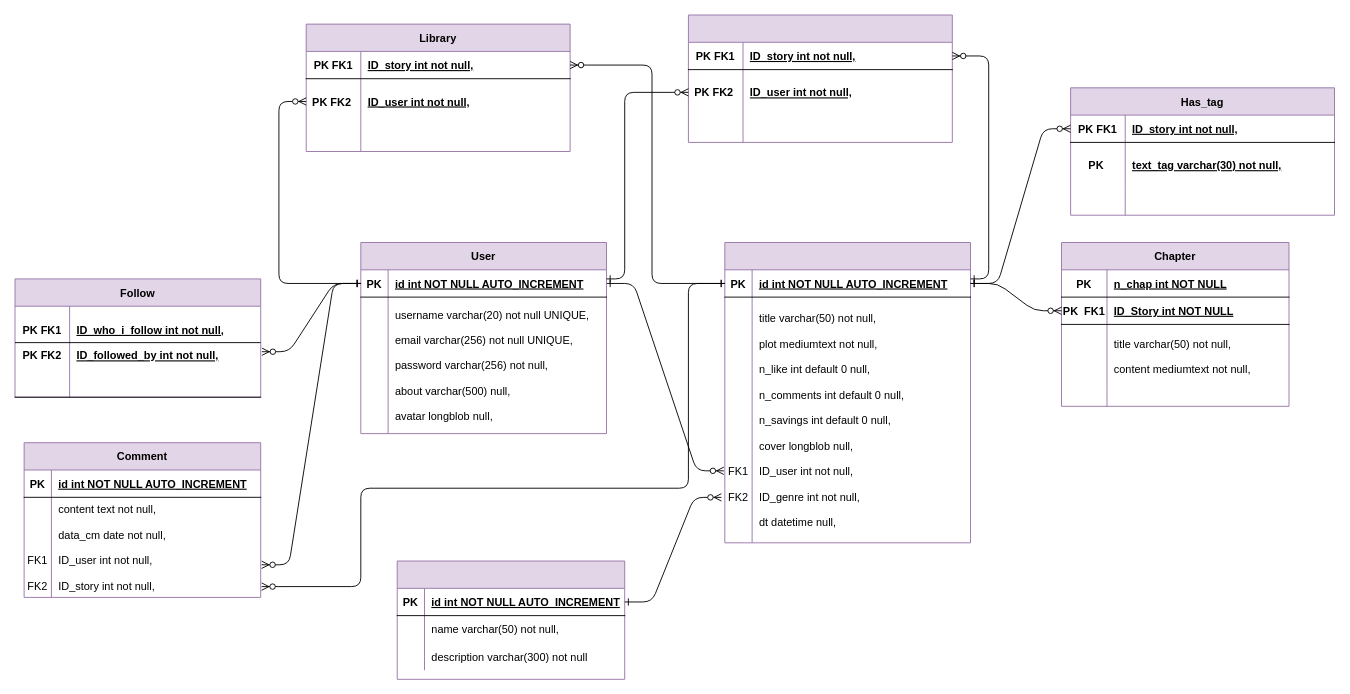
Some shapes in this 1350 by 694 pixel diagram are drawn without their labels. Here are the shapes that lost their labels. From the top down, the box of each, then its label:
(688, 14, 952, 142): Has_like
(724, 242, 971, 543): Story
(396, 560, 625, 679): Genre
